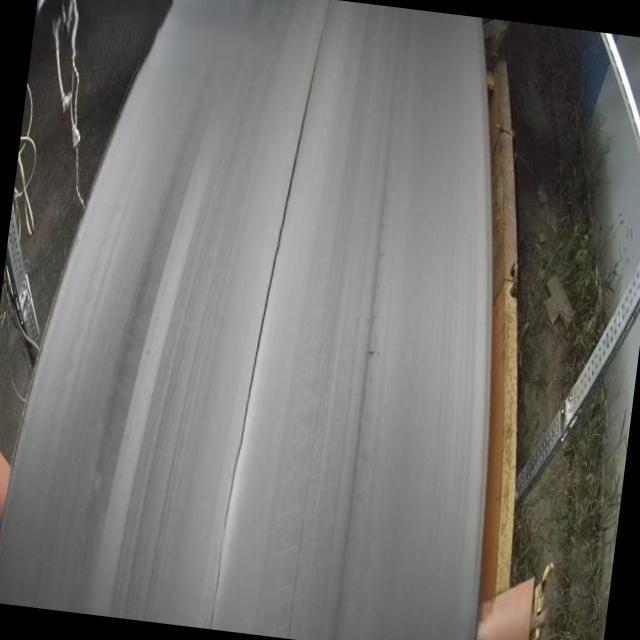Tear: (222, 44, 331, 525)
